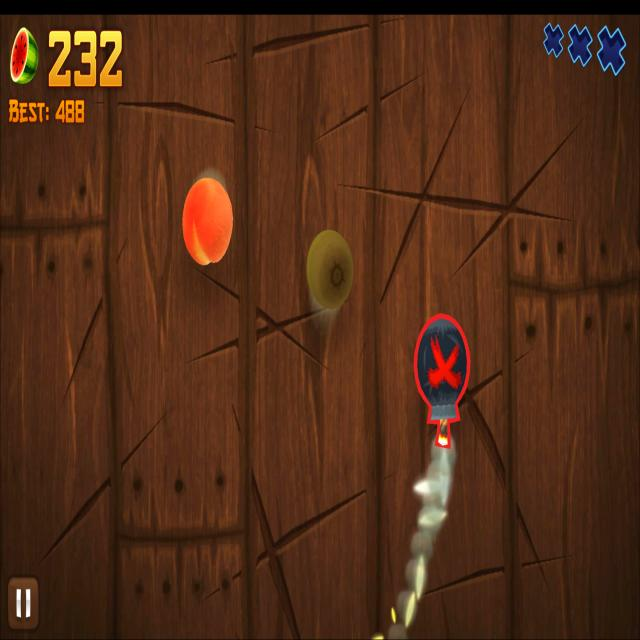bomb: (412, 310, 472, 450)
fruit: (181, 177, 233, 266), (306, 230, 354, 310)
